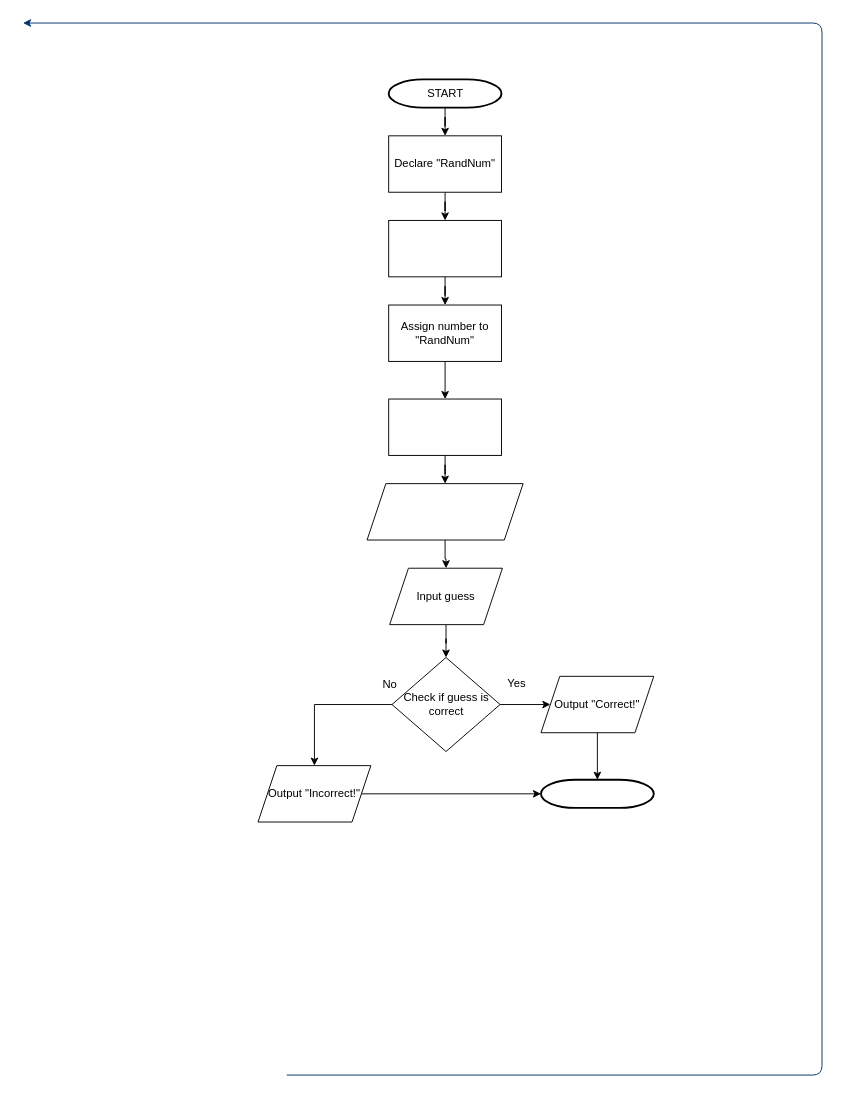
Some shapes in this 846 by 1100 pixel diagram are drawn without their labels. Here are the shapes that lost their labels. From the top down, the centre of each, then its label:
[444,248]: Generate Random Number 1-10
[444,426]: Declare "Guess"
[444,511]: Output "Guess a number between 1-10"
[597,793]: END
